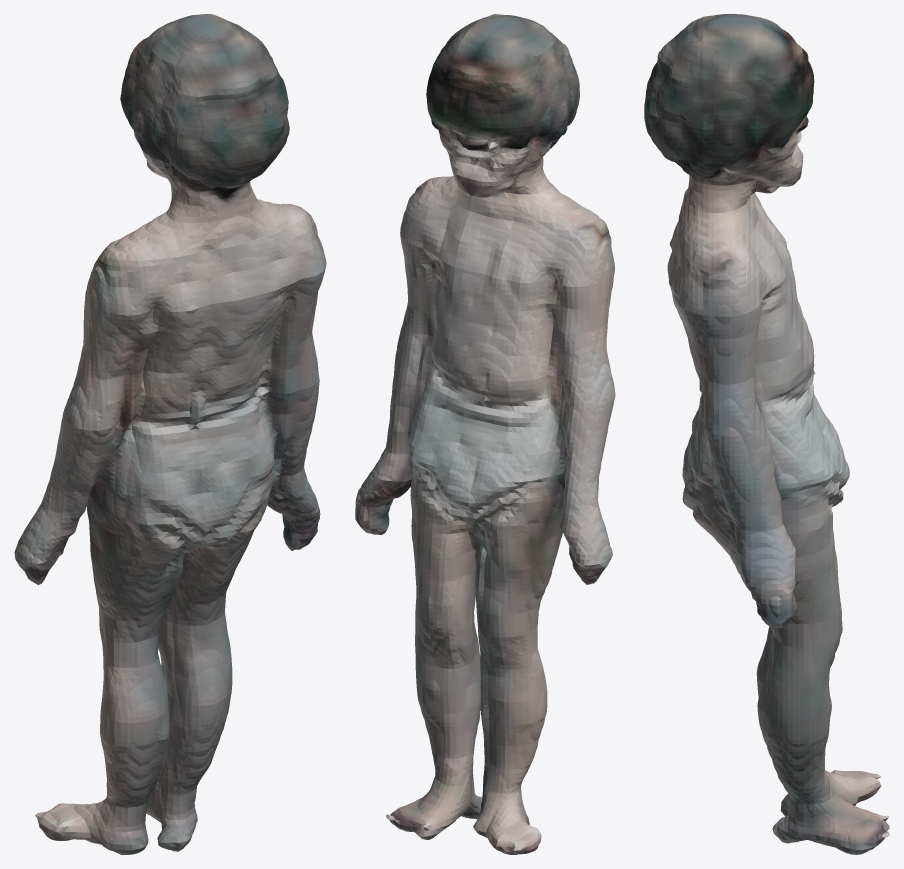
File: ghost_3d6.glb
3 views of the same model, side by side, from view 1: azimuth 30°, elevation 25°; view 2: azimuth 150°, elevation 25°; view 3: azimuth 270°, elevation 25° (orthographic). The views are drawn at different scales.
Parts seen in each view (by area): view 1: world; view 2: world; view 3: world.
Boxes of the visible parts, x1,y1,x2,y2 form: world: [14, 14, 326, 854]; world: [355, 14, 615, 854]; world: [644, 14, 889, 854].
Size of the model in its own units: 0.3299 by 0.9369 by 0.2541.
